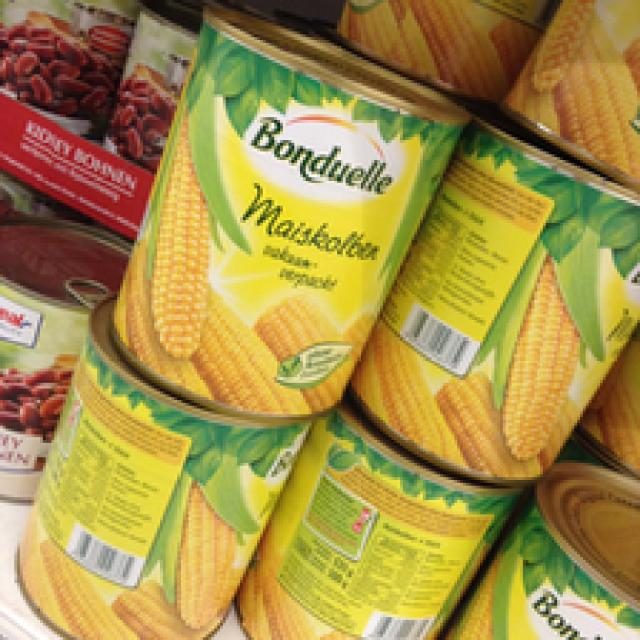groceries: (108, 6, 463, 423), (352, 114, 637, 489), (14, 320, 306, 637), (226, 412, 511, 637)
